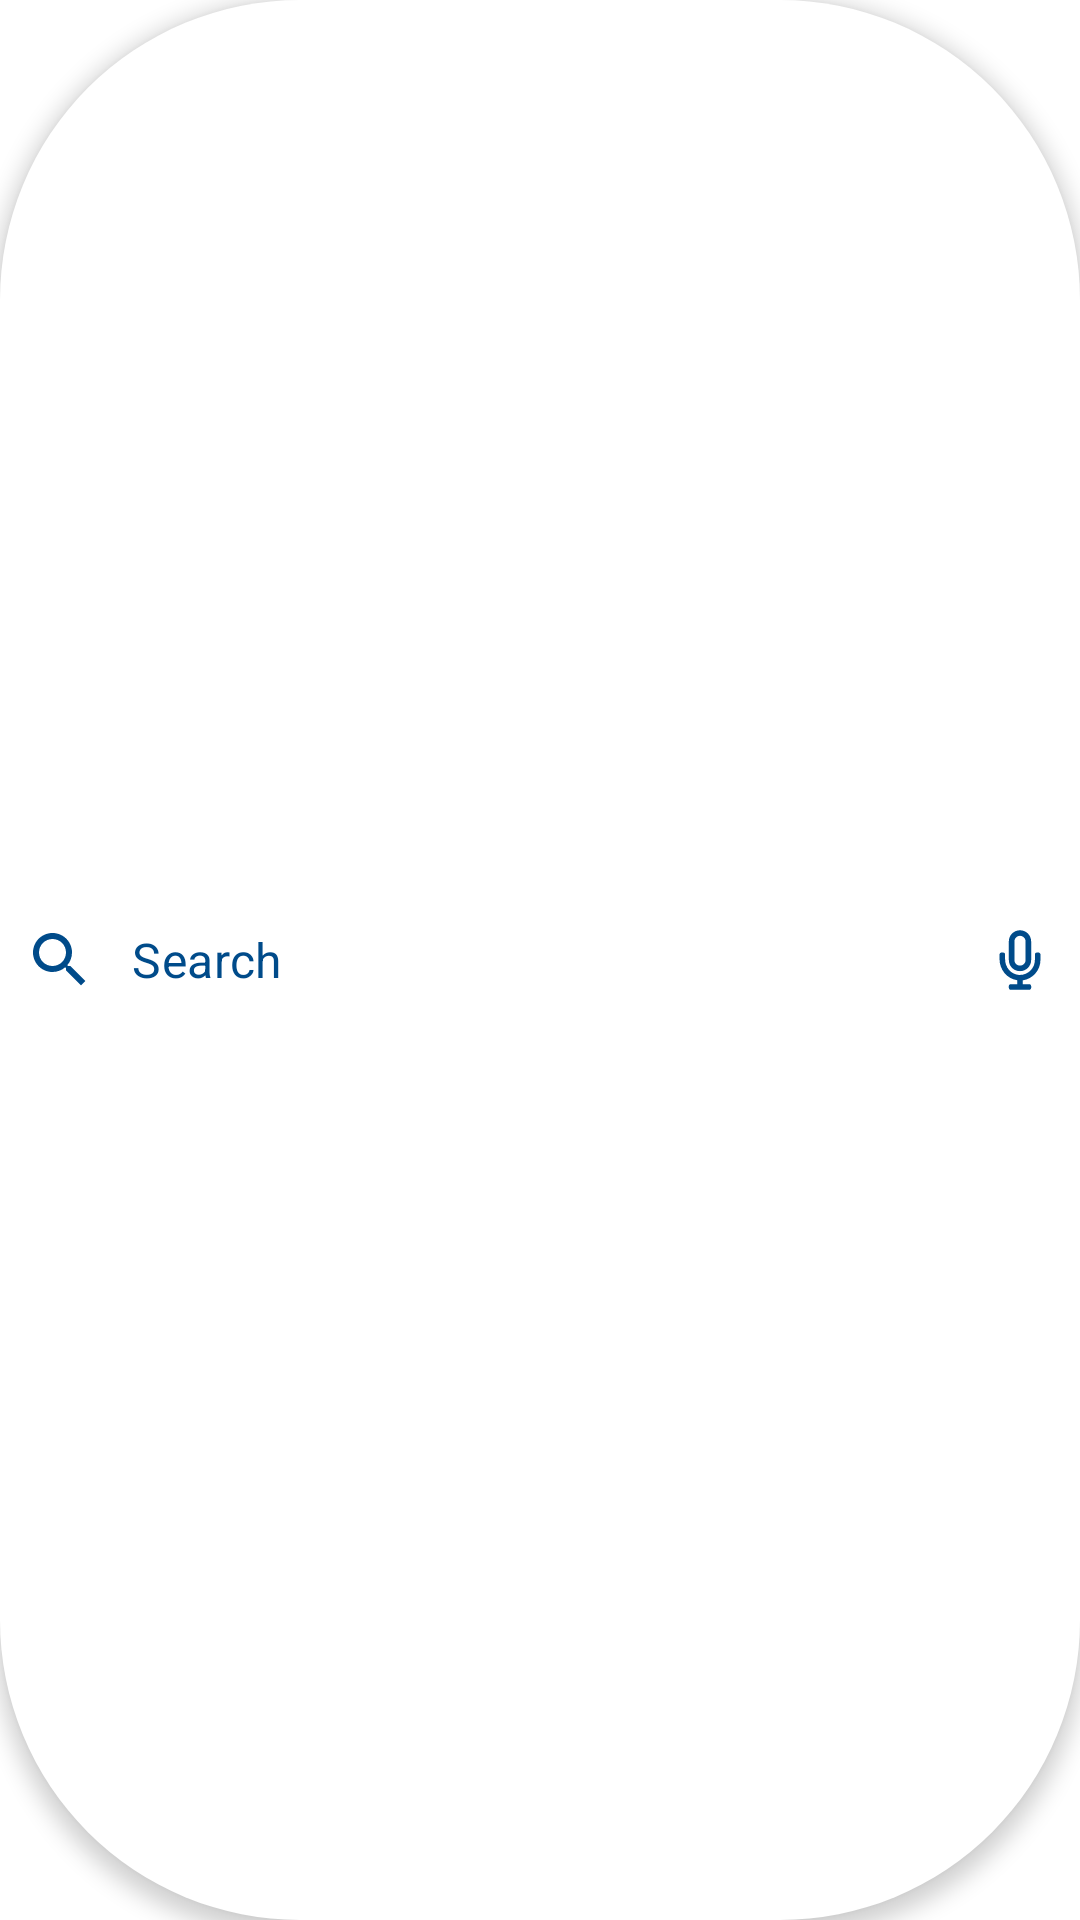

Icon click points for this 1080x1920 phone screenshot, format (x,y):
microphone: (1020,960)
